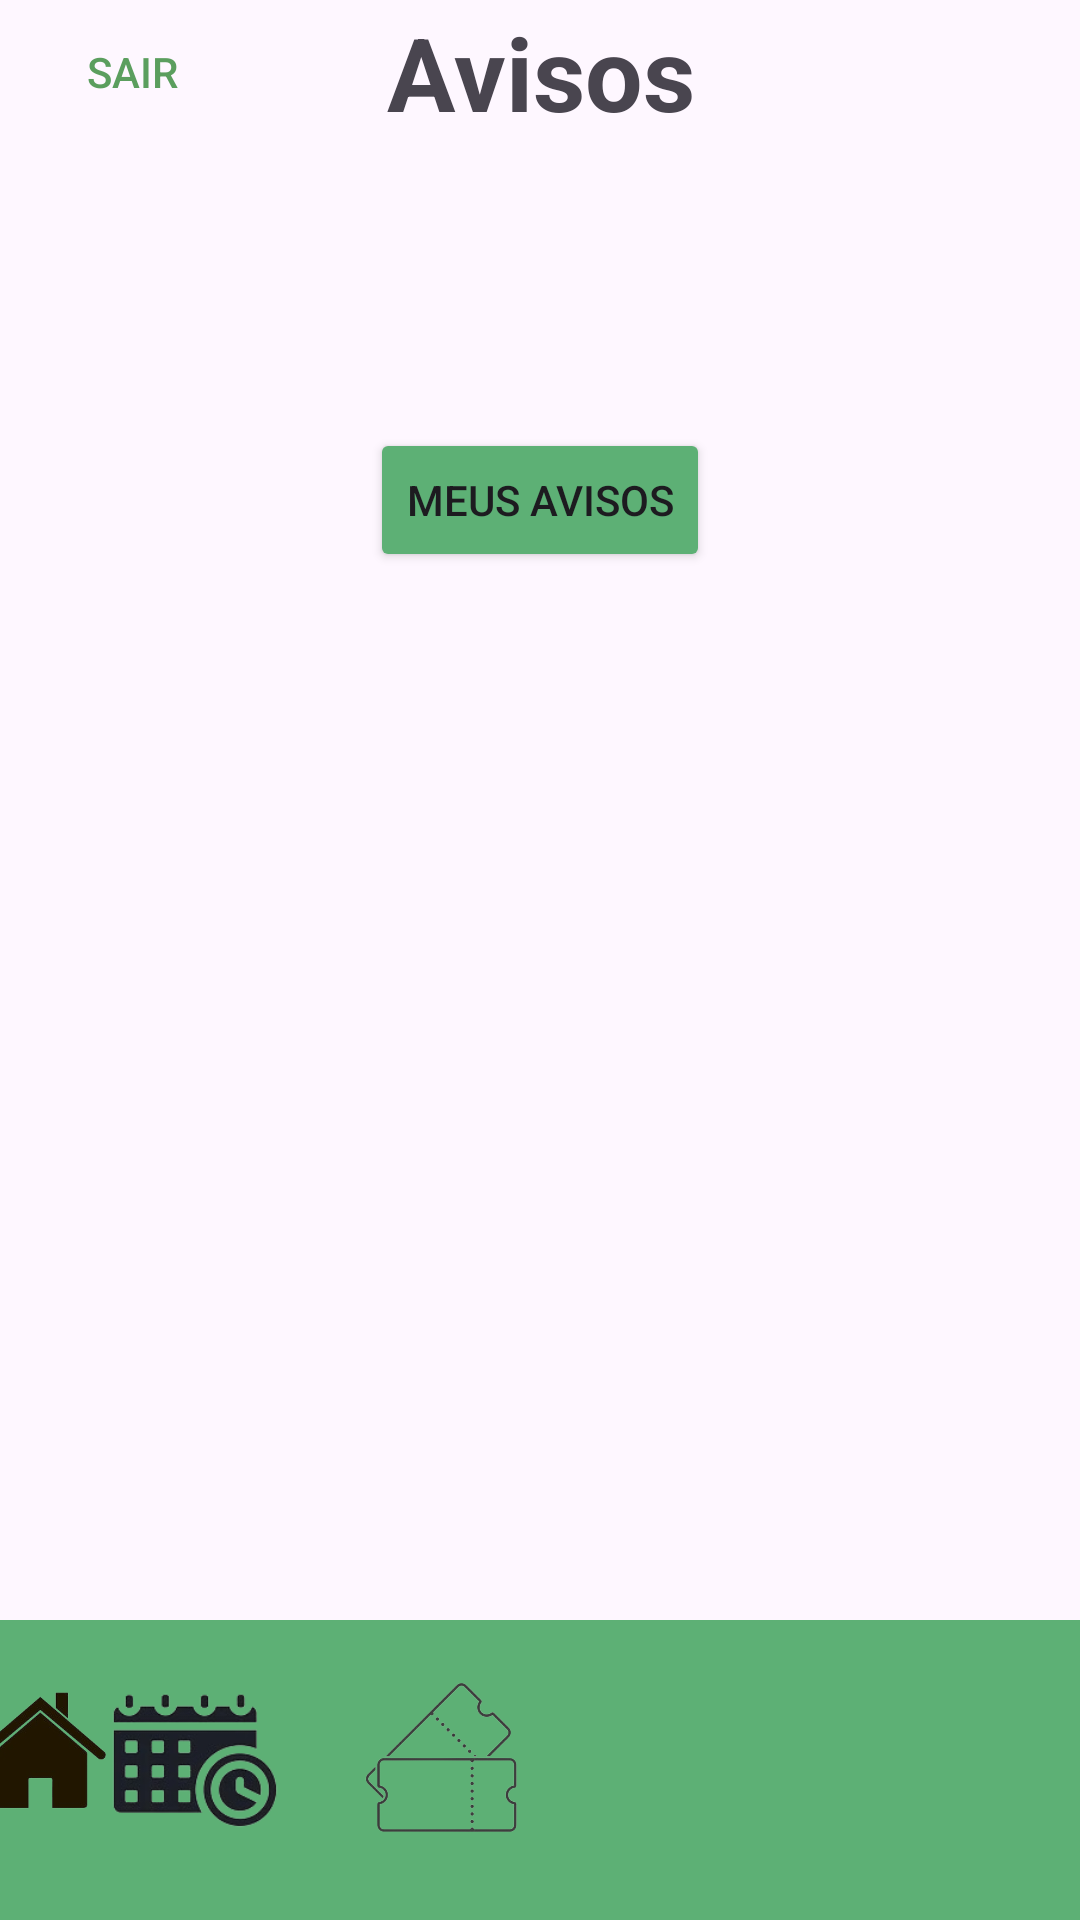

Icon bounding boxes for this 1080w x 1920h phone screenshot, format (x1, y1, x2, y2):
reserva: (114, 1694, 276, 1826)
ticket: (366, 1683, 517, 1832)
